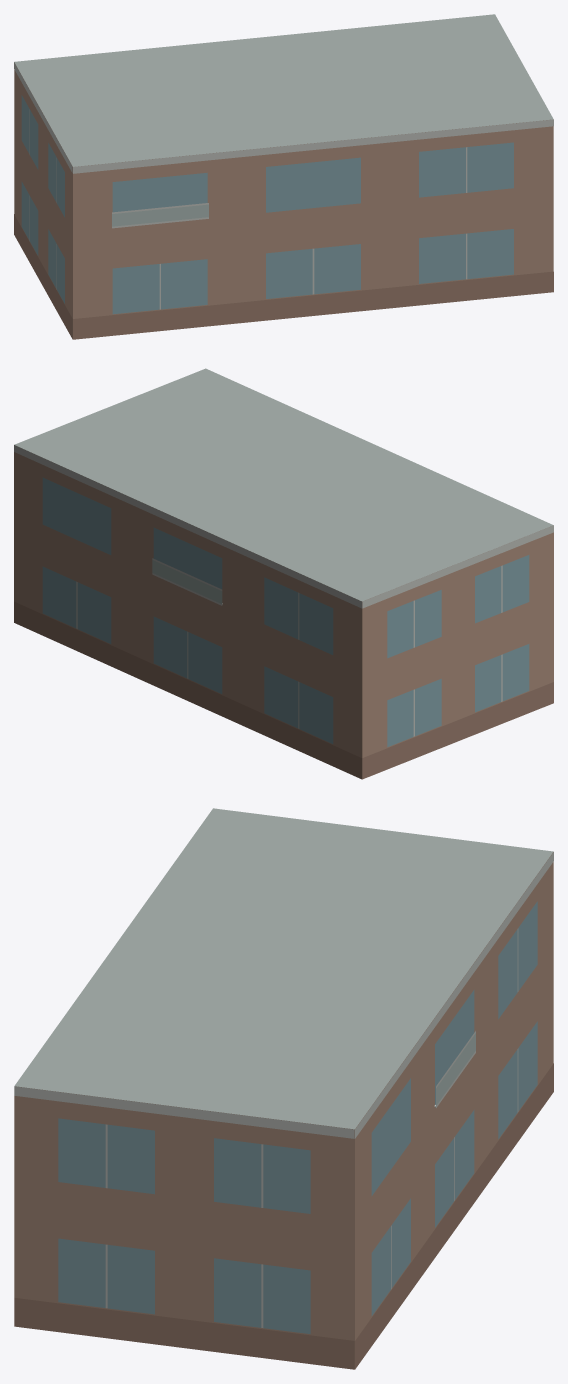
File: survey-upis-32708087.glb
3 views of the same model, one above another, from view 1: azimuth 30°, elevation 25°; view 2: azimuth 150°, elevation 25°; view 3: azimuth 270°, elevation 25° (orthographic). The views are drawn at different scales.
Parts seen in each view (by area): view 1: survey-upis-32708087.tmp; view 2: survey-upis-32708087.tmp; view 3: survey-upis-32708087.tmp.
Boxes of the visible parts, <box> form: survey-upis-32708087.tmp: <box>14,14,553,339</box>; survey-upis-32708087.tmp: <box>14,368,553,779</box>; survey-upis-32708087.tmp: <box>14,808,553,1369</box>.
Size of the model in its own units: 17.49 by 6.1 by 12.43.
